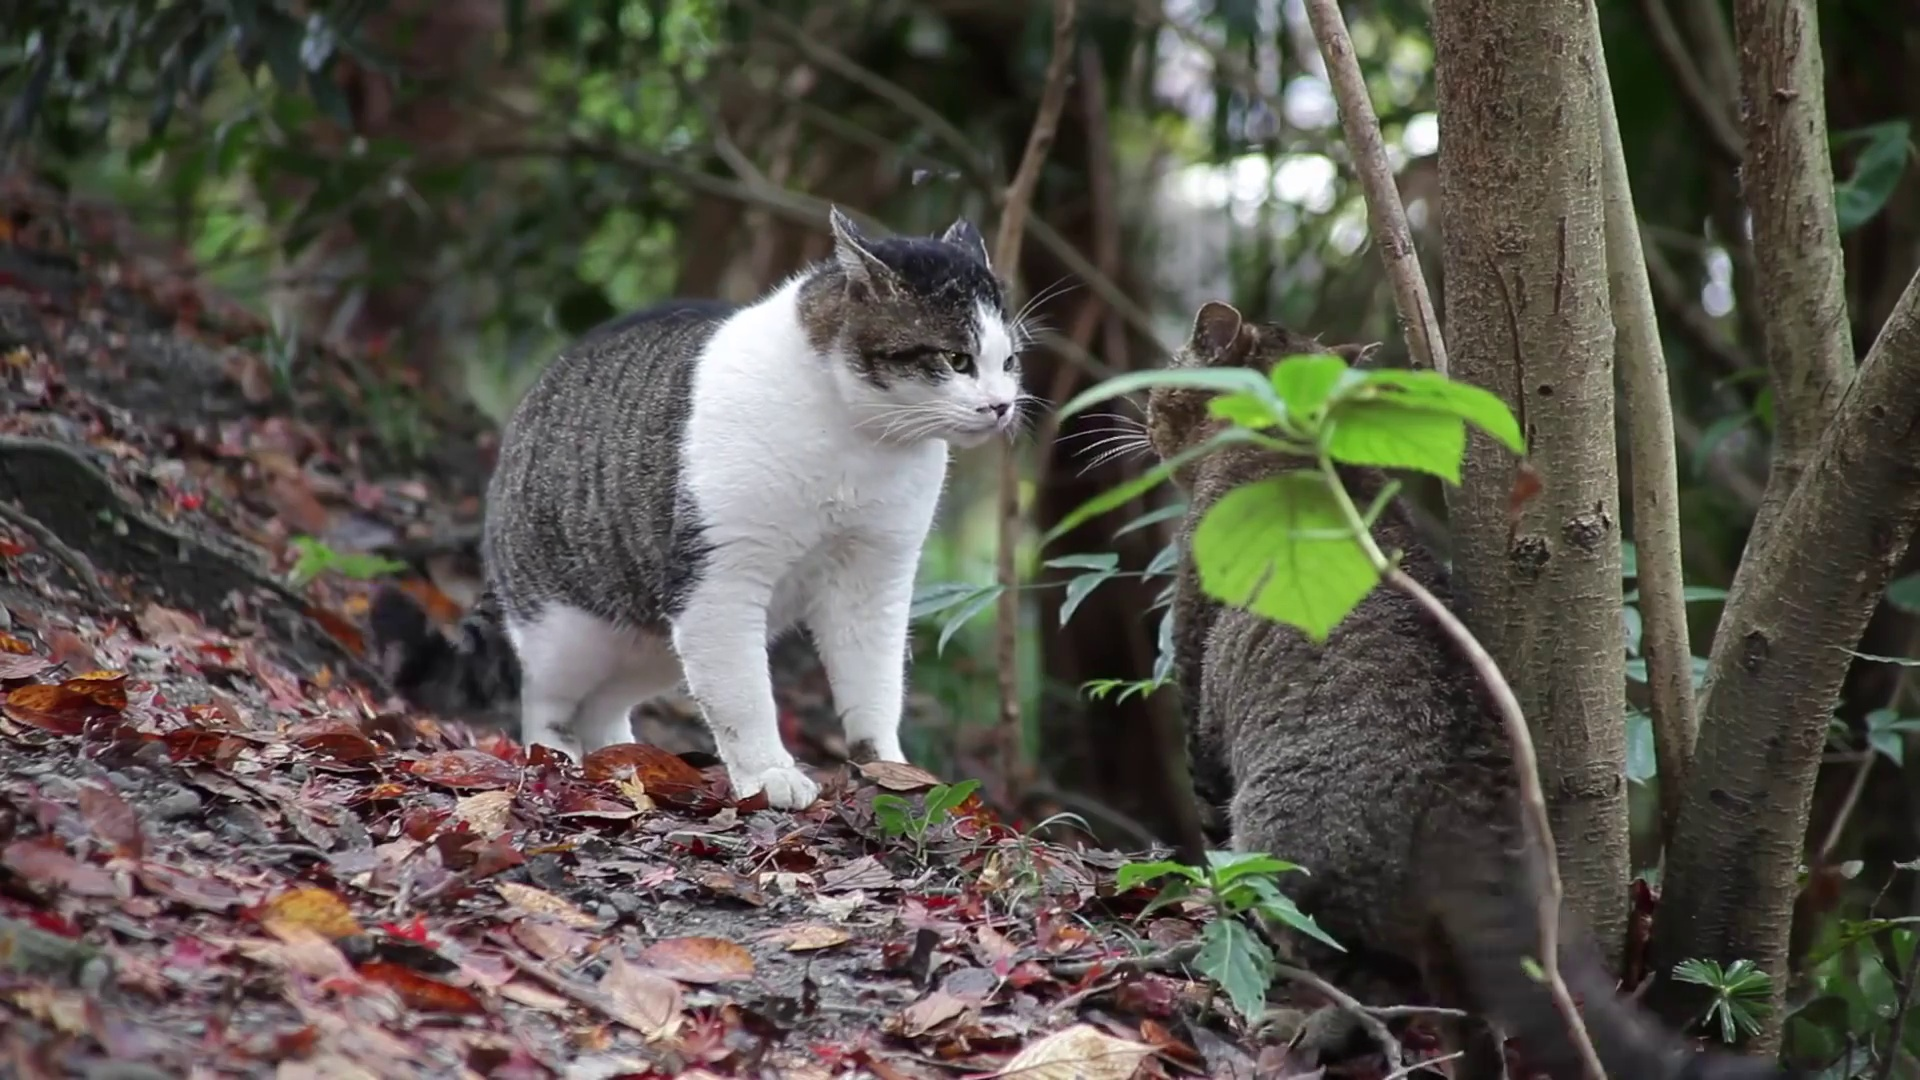black-white: (371, 204, 1022, 808)
pure black: (1143, 301, 1561, 977)
